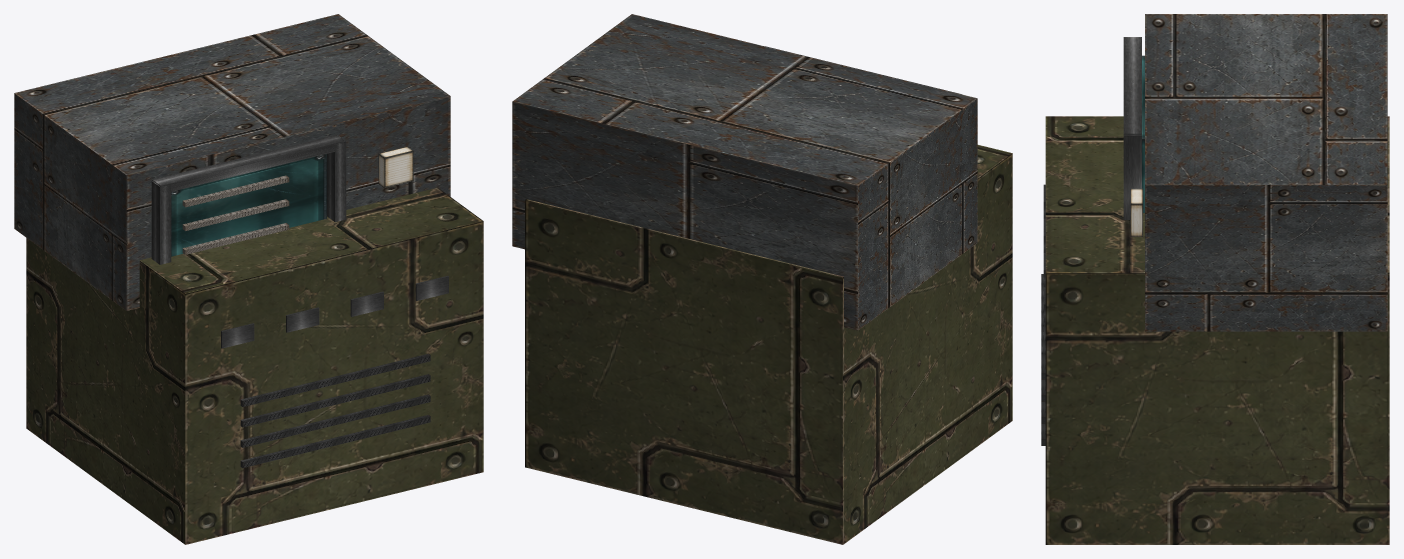
Rendered from console.obj.
3 views of the same model, side by side, from view 1: azimuth 30°, elevation 25°; view 2: azimuth 150°, elevation 25°; view 3: azimuth 270°, elevation 25° (orthographic). The views are drawn at different scales.
Parts seen in each view (by area): view 1: console; view 2: console; view 3: console.
Part boxes in pixels (<box>): console: <box>14,14,483,544</box>; console: <box>512,14,1012,544</box>; console: <box>1041,14,1389,544</box>.
Size of the model in its own units: 1 by 1 by 0.861.
1 material, 1 textured.
